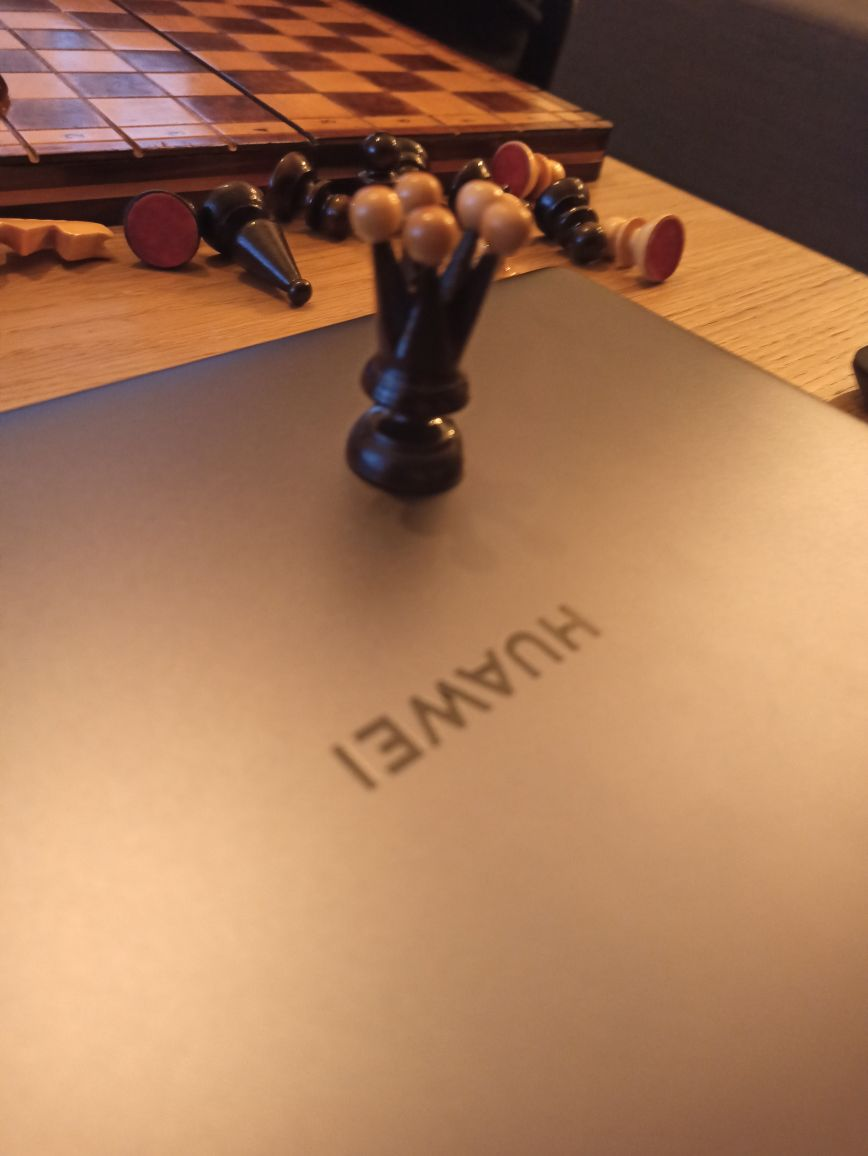bqueen: (345, 175, 527, 496)
